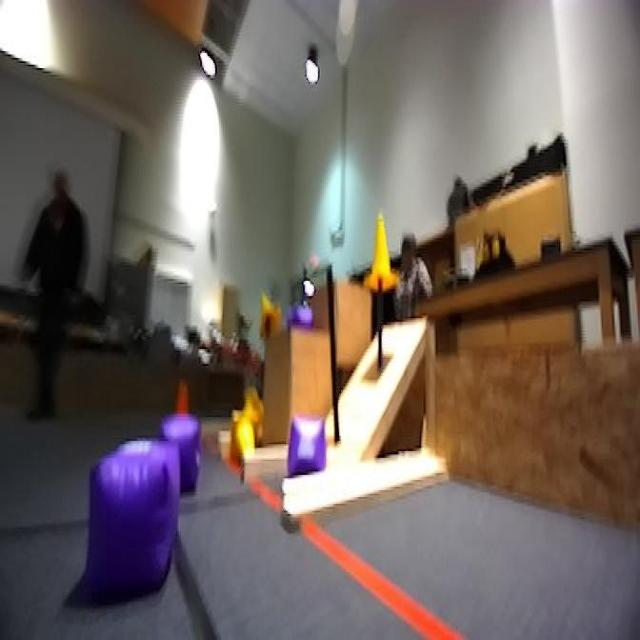frc_cone: (366, 216, 393, 283), (231, 412, 260, 465), (257, 291, 283, 340)
frc_cube: (85, 444, 179, 601), (158, 415, 206, 499), (284, 414, 328, 472), (288, 306, 316, 337)
